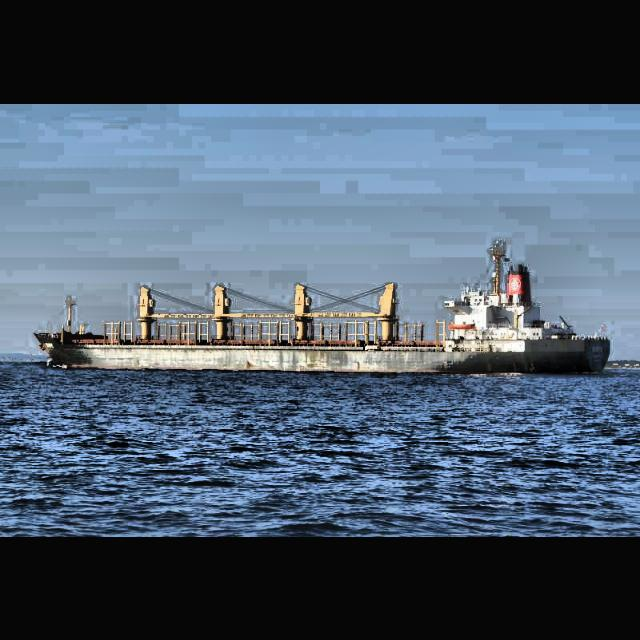bulk_carrier: (31, 242, 614, 378)
